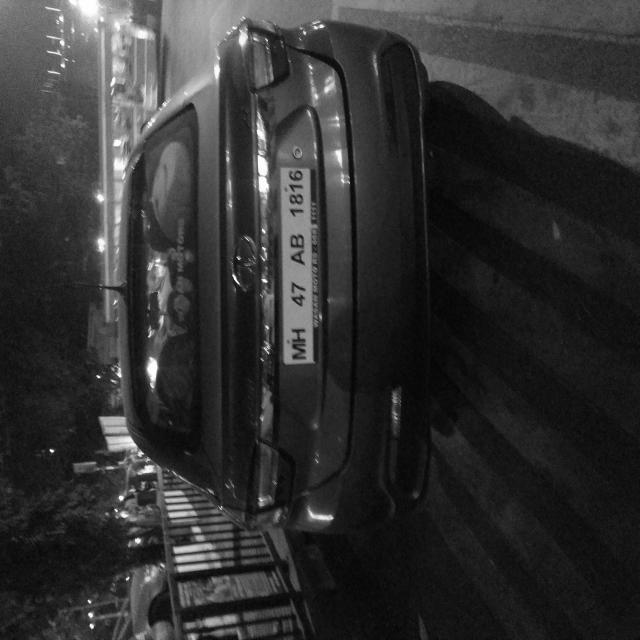car: (68, 148, 469, 603)
license-plate: (204, 373, 358, 427)
